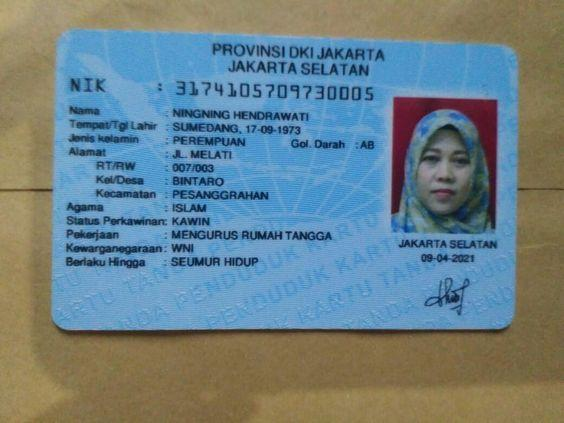ID-card: (50, 28, 516, 330)
